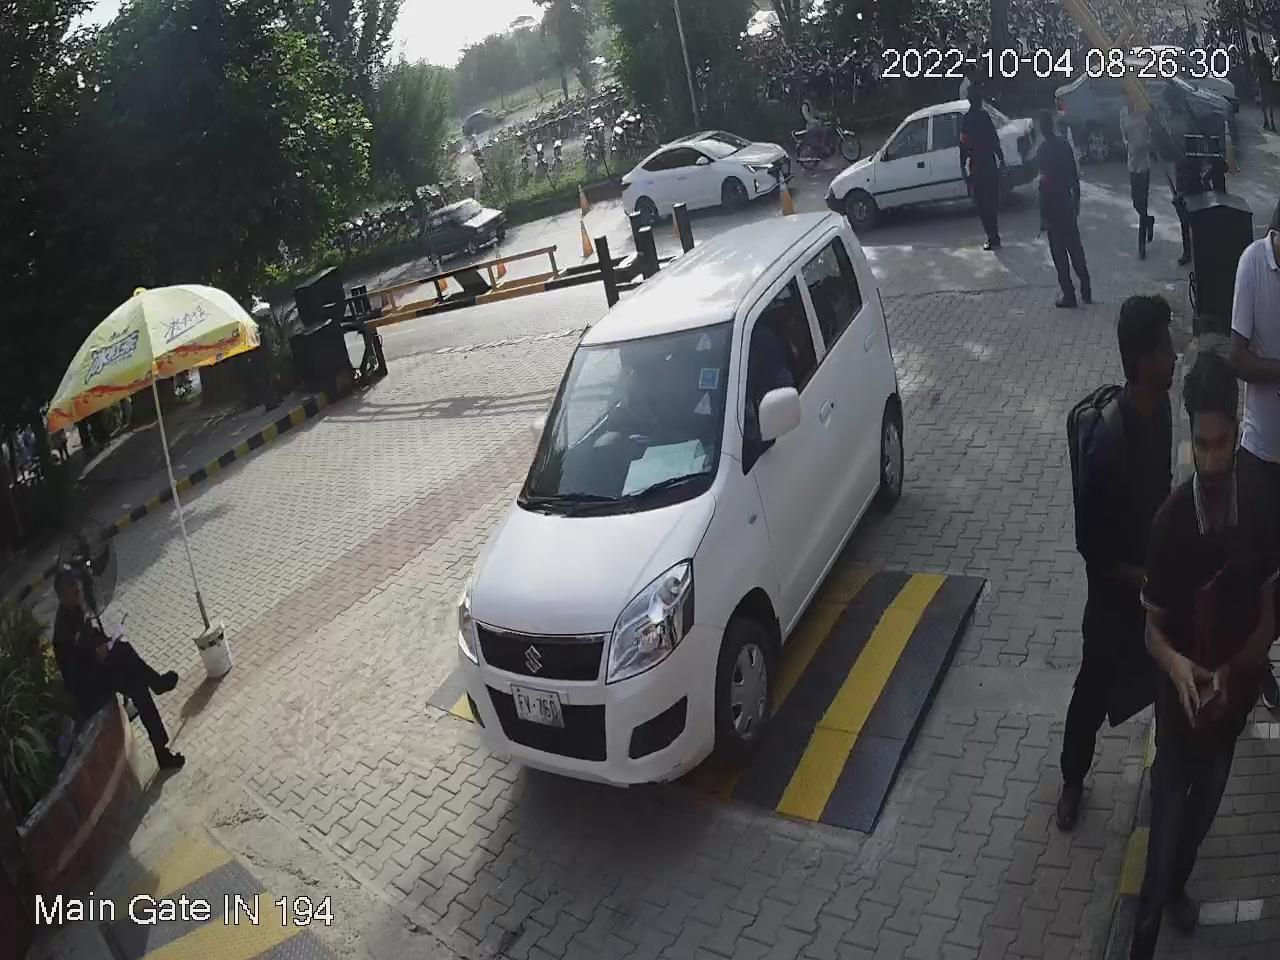windshield: (520, 308, 741, 512)
